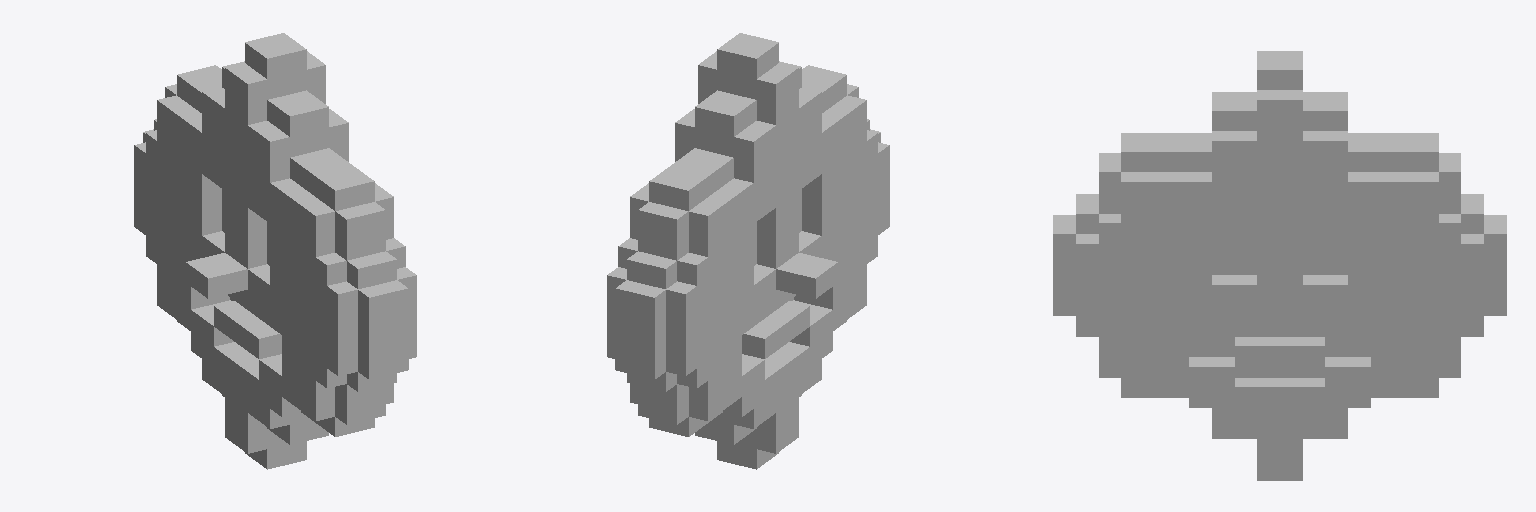
File: star.obj
3 views of the same model, side by side, from view 1: azimuth 30°, elevation 25°; view 2: azimuth 150°, elevation 25°; view 3: azimuth 270°, elevation 25° (orthographic).
Bounding box in the file's own units: 6 × 20 × 20.